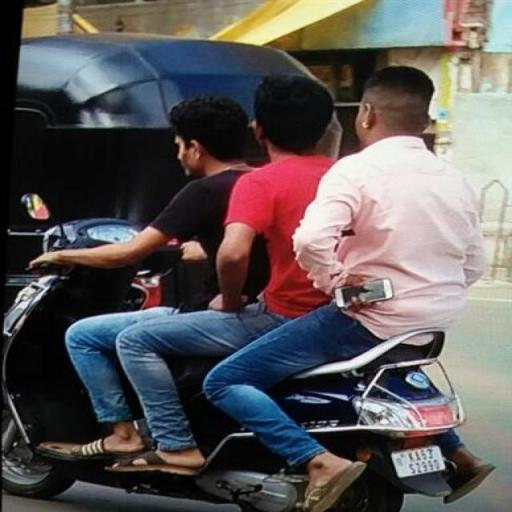tripple riding: (4, 66, 502, 404)
